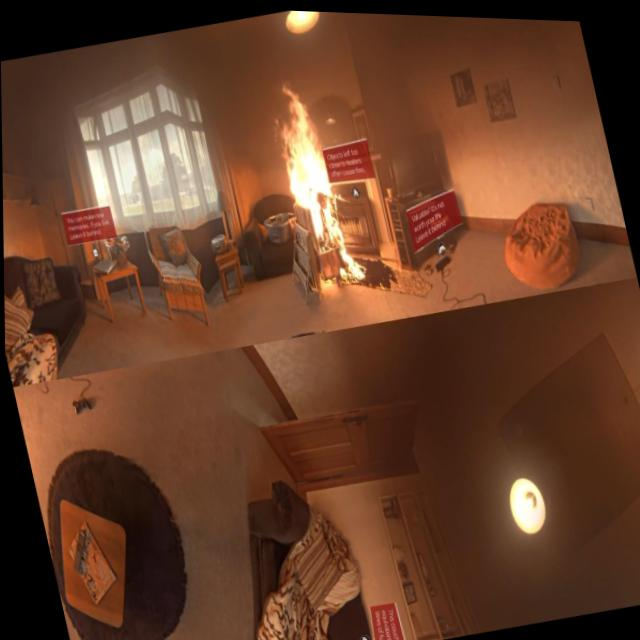fire: (261, 65, 366, 290)
